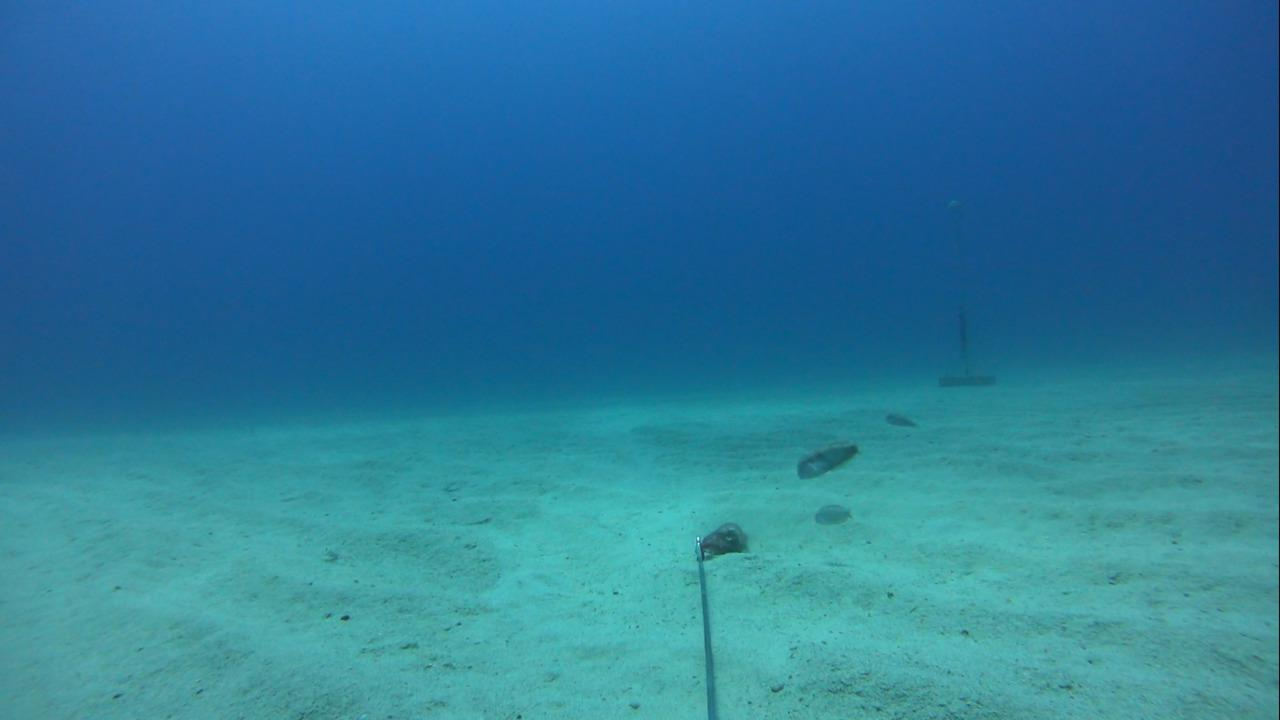raor: (789, 434, 871, 486), (806, 493, 864, 529), (881, 402, 932, 441)
